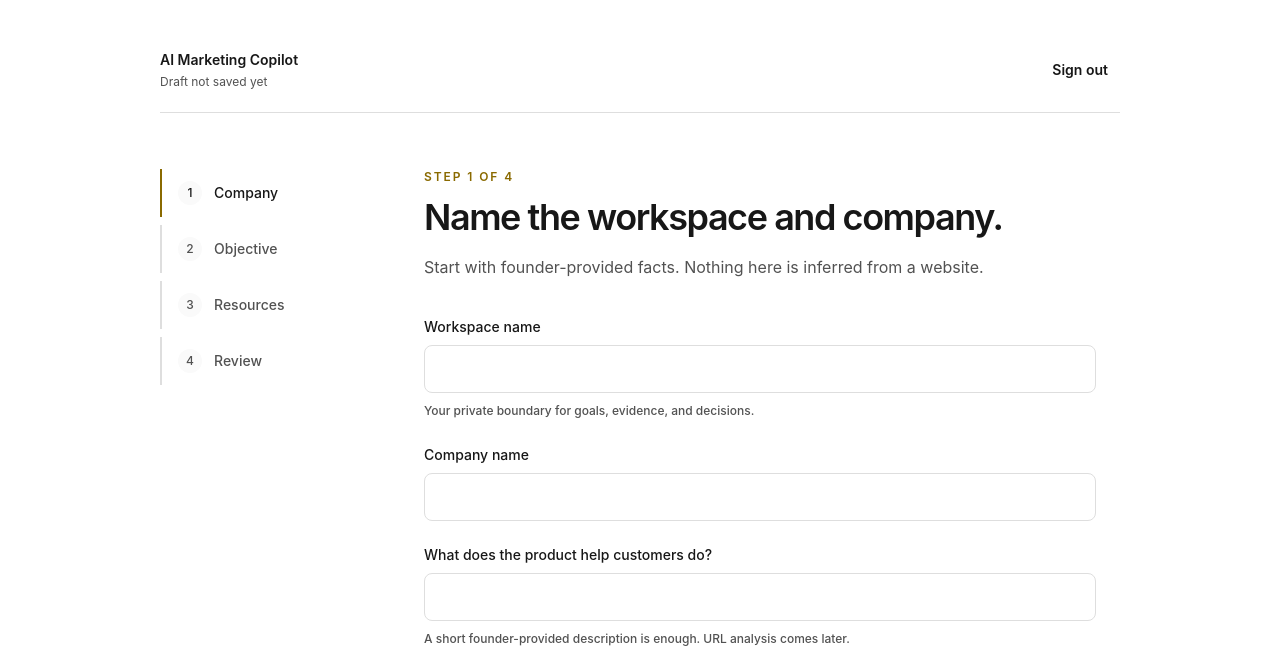
it: onboarding wizard › persists through the authenticated server adapter when provided
Type "Acme workspace" into the field labelled "Workspace name" at (760, 369), box [424,345,1096,393]
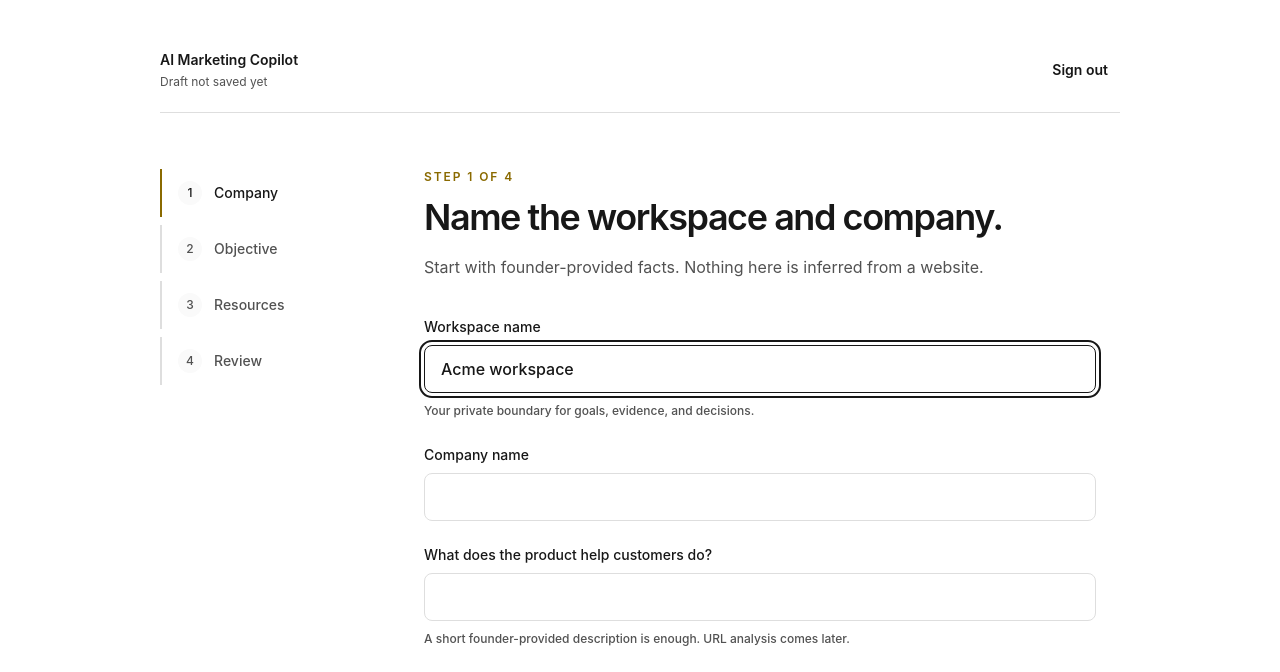
Type "Acme" into the field labelled "Company name" at (760, 497), box [424,473,1096,521]
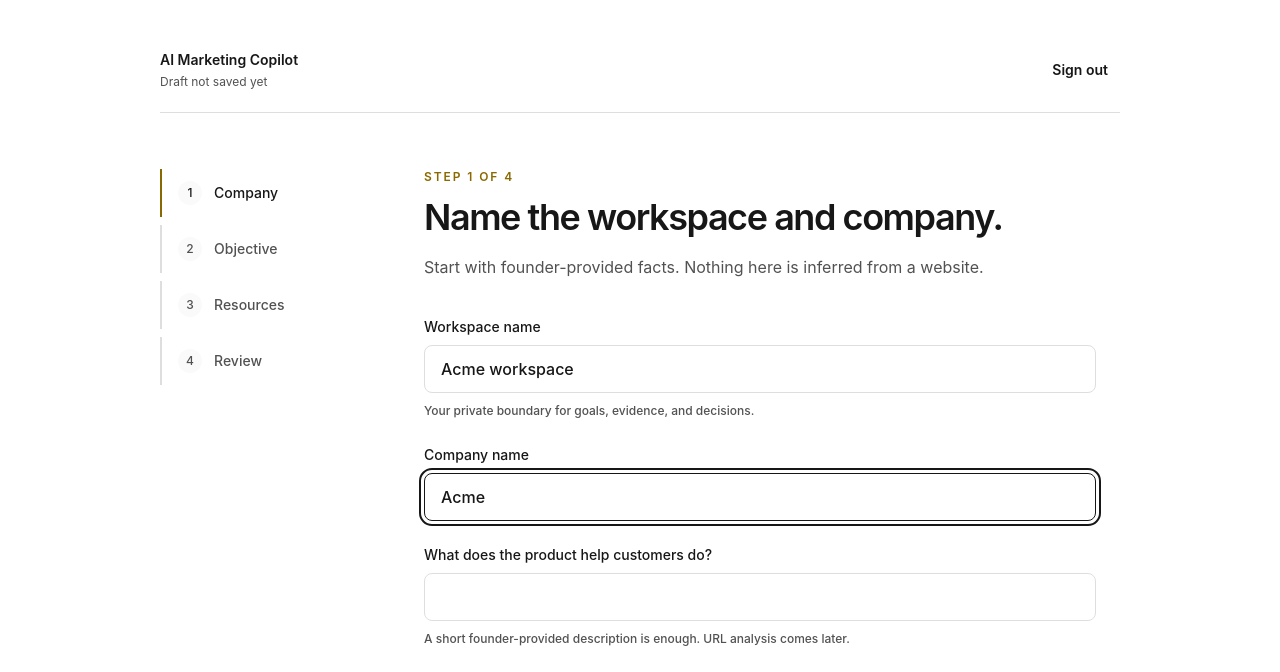
Type "Helps founders understand activation." into the field labelled "What does the product help customers do" at (760, 597), box [424,573,1096,621]
(page scrolled)
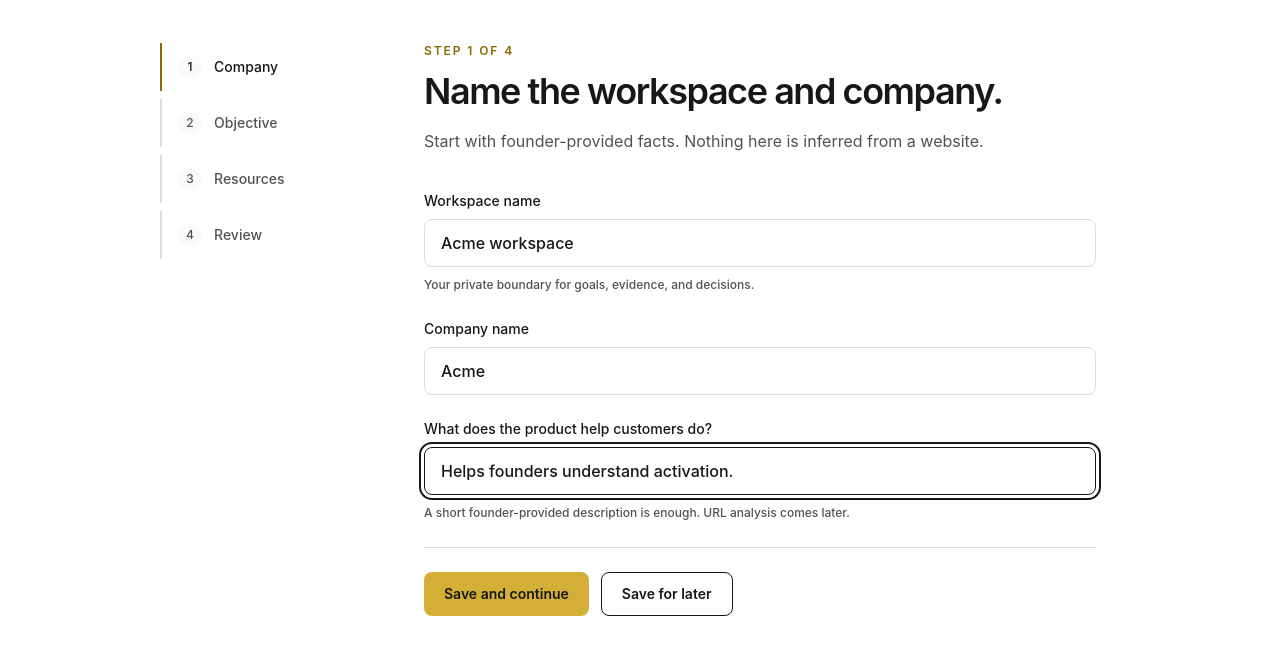
Click the button "Save and continue" at (506, 594), box [424,572,589,616]
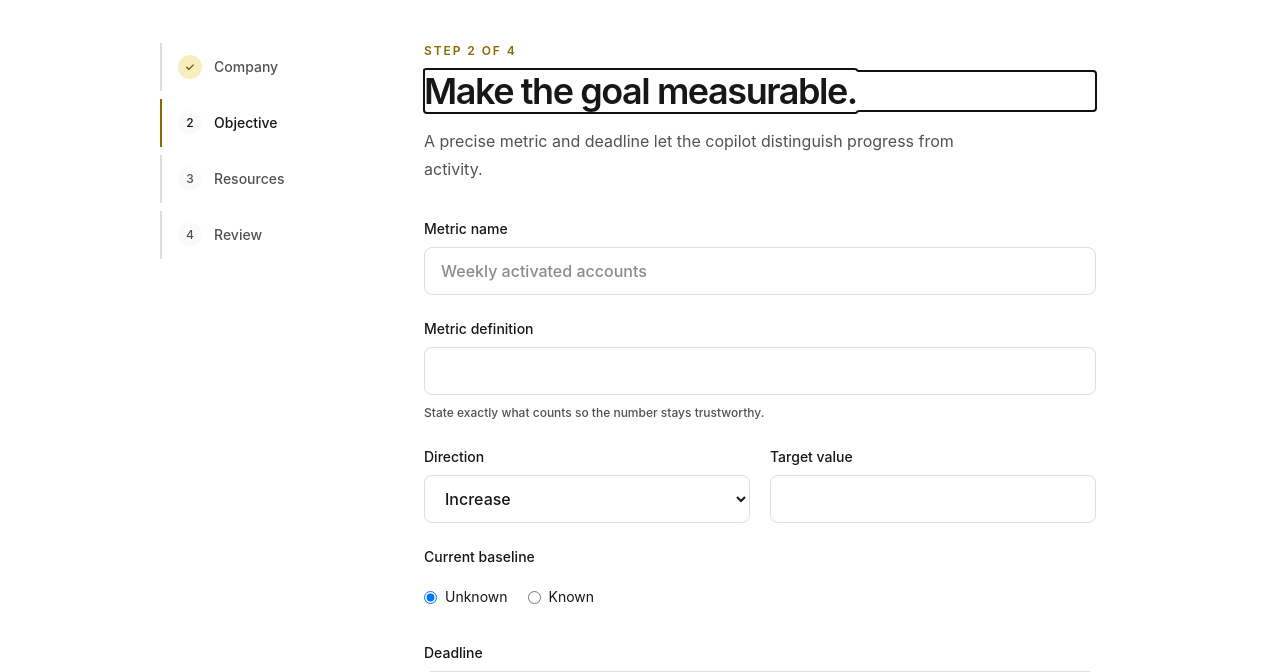
Now the heading "Make the goal measurable." is shown, box [424,69,857,113]
